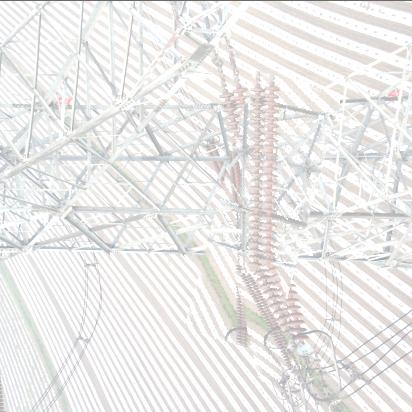insulator: (202, 73, 327, 350), (241, 263, 297, 380)
